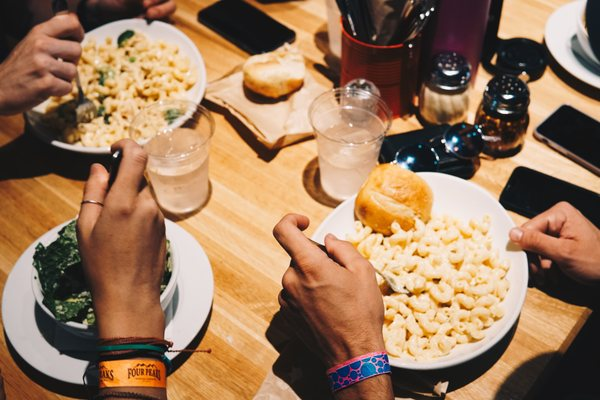pizza: (308, 83, 390, 201), (145, 104, 214, 219)
sushi: (275, 164, 530, 382)
